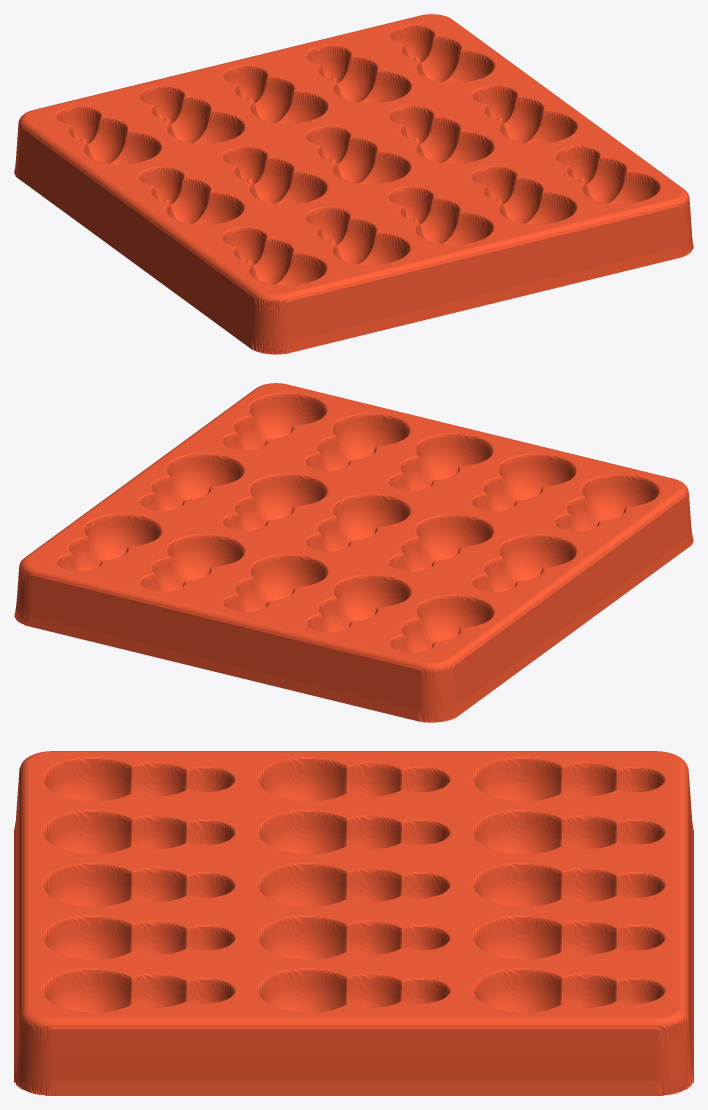
File: mold.glb
The picture shows the model from 3 angles, top to bottom: view 1: azimuth 30°, elevation 25°; view 2: azimuth 150°, elevation 25°; view 3: azimuth 270°, elevation 25°; orthographic projection. The views are drawn at different scales.
Visible parts, largest first — view 1: geometry_0; view 2: geometry_0; view 3: geometry_0.
Boxes of the visible parts, box(x1,y1,x2,y2) form: geometry_0: box(14, 14, 693, 354); geometry_0: box(14, 383, 693, 722); geometry_0: box(14, 751, 693, 1095).
Size of the model in its own units: 0.1542 by 0.0185 by 0.1589.
